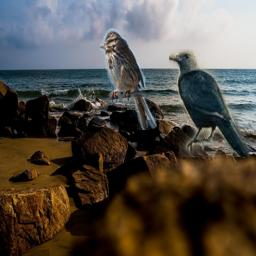Crow: (169, 49, 250, 157)
Sparrow: (100, 28, 157, 130)
